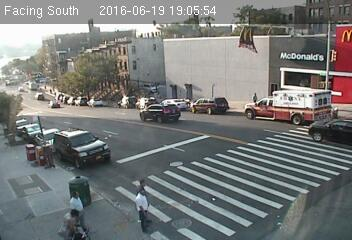neg: (222, 126, 240, 151), (21, 107, 38, 129), (154, 127, 171, 149), (273, 166, 288, 186), (311, 127, 326, 147), (206, 42, 220, 60), (123, 12, 136, 29), (212, 181, 225, 198), (195, 97, 208, 114), (242, 27, 255, 43), (286, 40, 298, 57), (175, 54, 187, 69), (58, 69, 70, 84), (117, 127, 129, 142), (190, 17, 201, 32), (80, 17, 91, 32), (41, 24, 52, 39), (105, 42, 116, 56), (136, 47, 147, 61), (72, 117, 82, 132), (104, 76, 115, 89), (184, 119, 194, 133), (24, 46, 34, 60), (133, 90, 143, 103), (42, 159, 52, 172), (307, 73, 317, 85), (88, 143, 97, 156), (222, 80, 231, 92), (247, 59, 255, 70), (281, 98, 286, 105)
pos: (120, 178, 159, 230), (63, 189, 87, 221), (60, 209, 78, 234), (250, 90, 260, 102), (47, 87, 53, 94), (43, 83, 47, 90)
